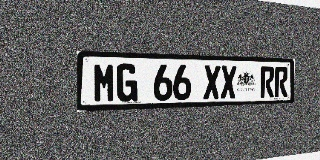6: (153, 64, 173, 101), (173, 64, 191, 100)
G: (116, 63, 137, 102)
M: (93, 63, 116, 103)
R: (260, 66, 274, 98), (274, 67, 288, 97)
X: (203, 65, 220, 99), (220, 66, 236, 99)
